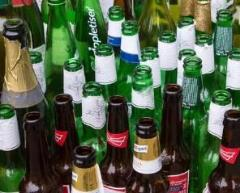glass: (0, 1, 240, 193)
